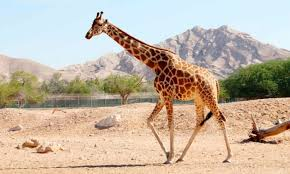Jirafa: (76, 4, 168, 76)
